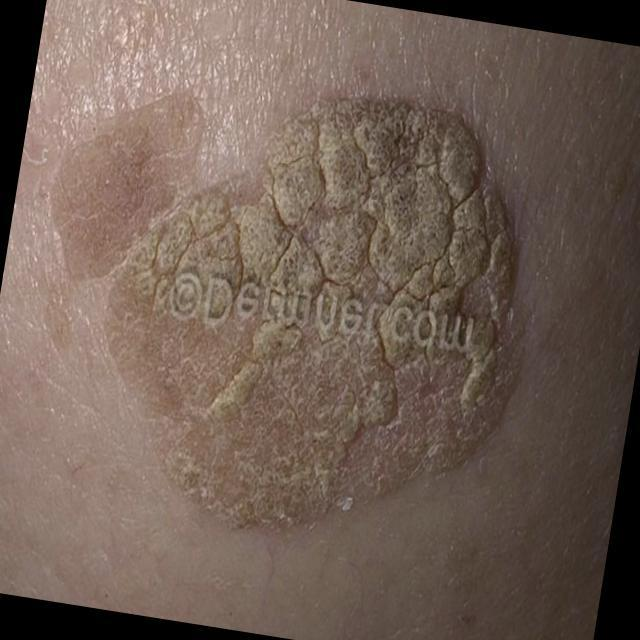Eczema: (122, 92, 514, 534)
